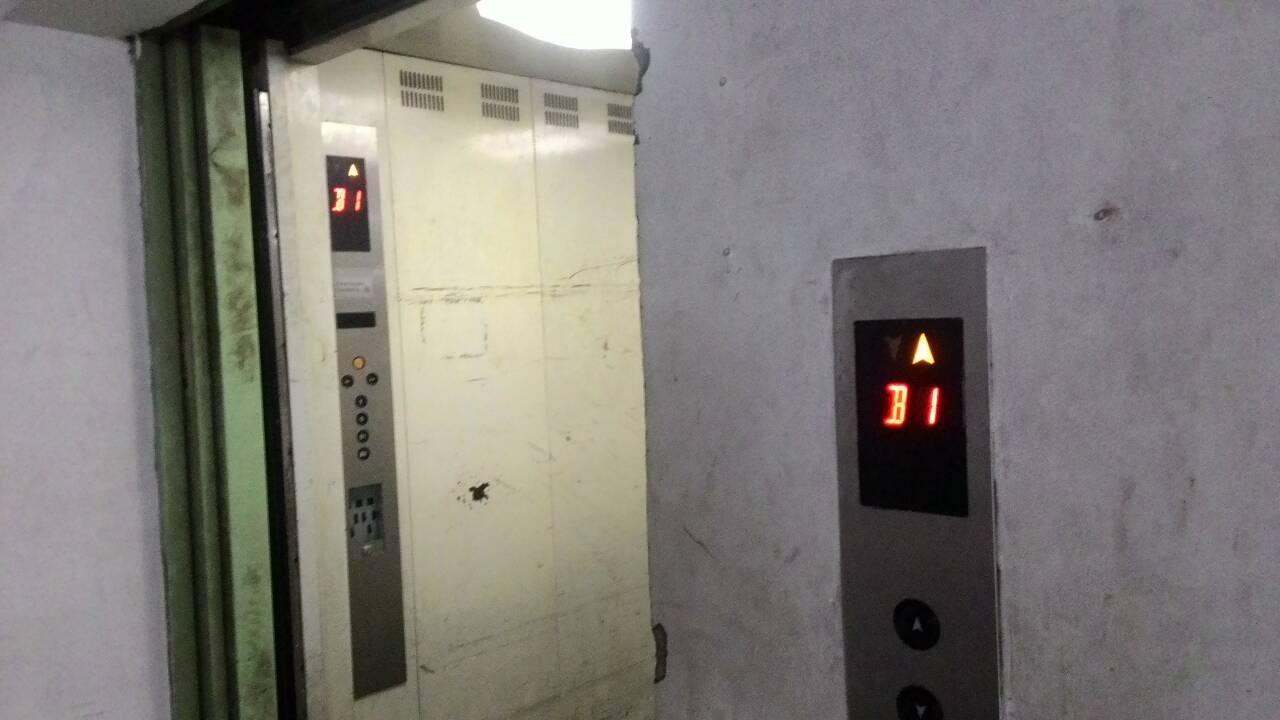blur: (340, 373, 354, 389), (354, 394, 368, 408), (366, 371, 379, 385), (357, 447, 371, 460), (362, 544, 375, 558), (352, 356, 365, 369), (356, 430, 369, 442), (356, 413, 368, 424)
down: (894, 685, 941, 720)
led: (852, 319, 970, 519), (325, 154, 372, 253)
up: (893, 598, 941, 652)
